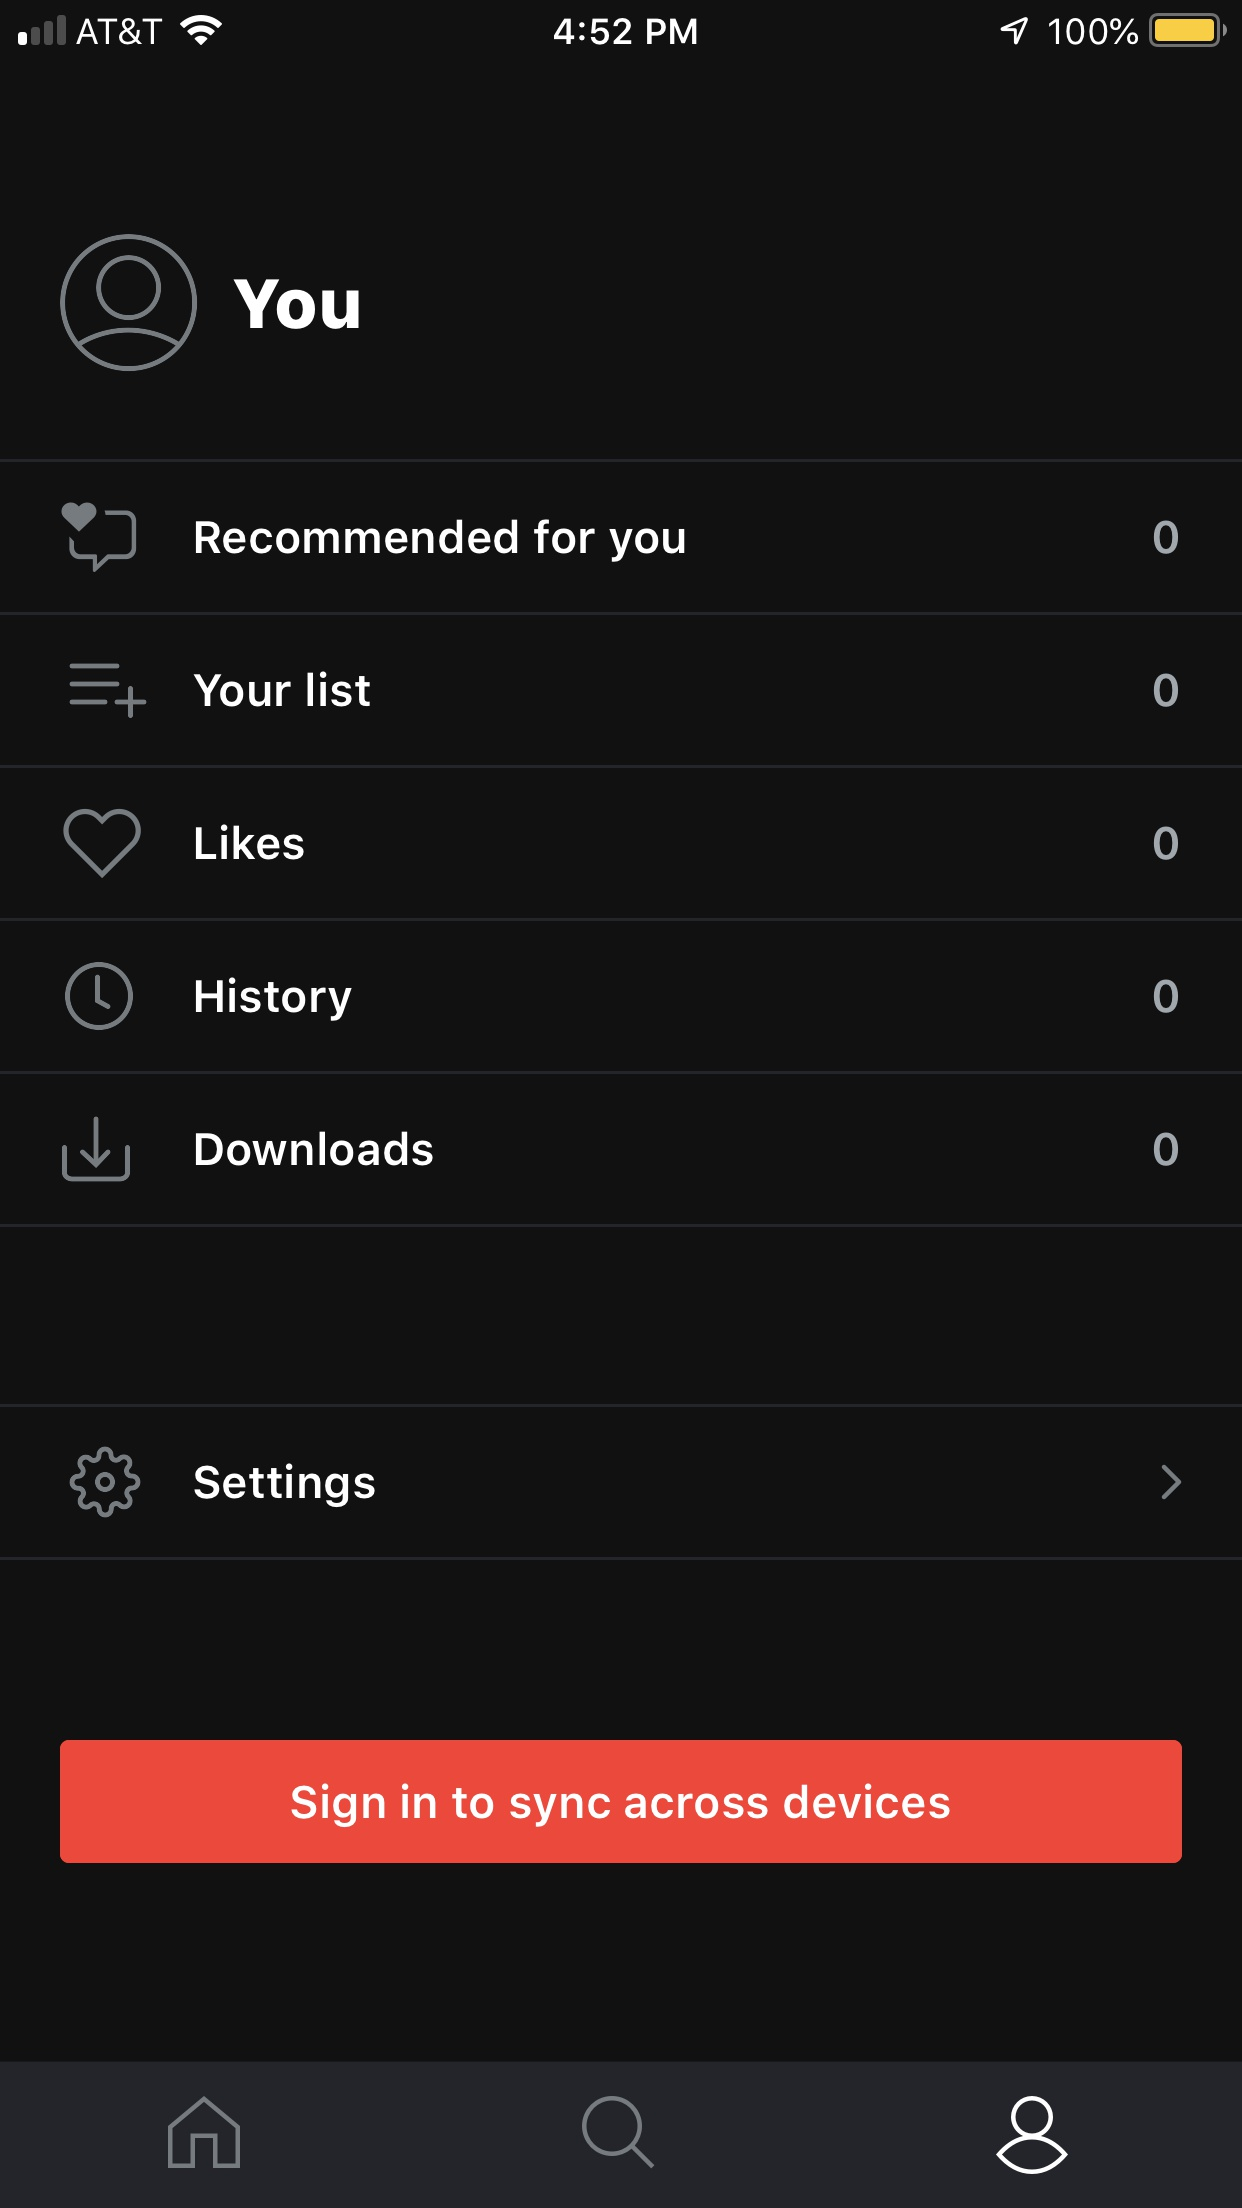Icon: (61, 234, 199, 373), (995, 2094, 1069, 2175), (582, 2094, 657, 2170), (61, 500, 138, 573), (64, 808, 143, 880), (168, 2094, 243, 2169), (70, 1447, 143, 1520), (65, 961, 135, 1033), (62, 1116, 132, 1183), (70, 663, 149, 720), (1160, 1465, 1181, 1501)
Text: (193, 516, 687, 563), (193, 1124, 437, 1166), (194, 1459, 375, 1510), (193, 667, 373, 708), (234, 279, 359, 331), (196, 980, 353, 1021), (193, 820, 306, 863), (1153, 667, 1178, 708), (1153, 1131, 1178, 1168), (1153, 520, 1178, 557), (1153, 980, 1178, 1015), (1153, 826, 1178, 861)
TextButton: (61, 1739, 1181, 1864)
UpperTaskBar: (2, 2, 1242, 49)
